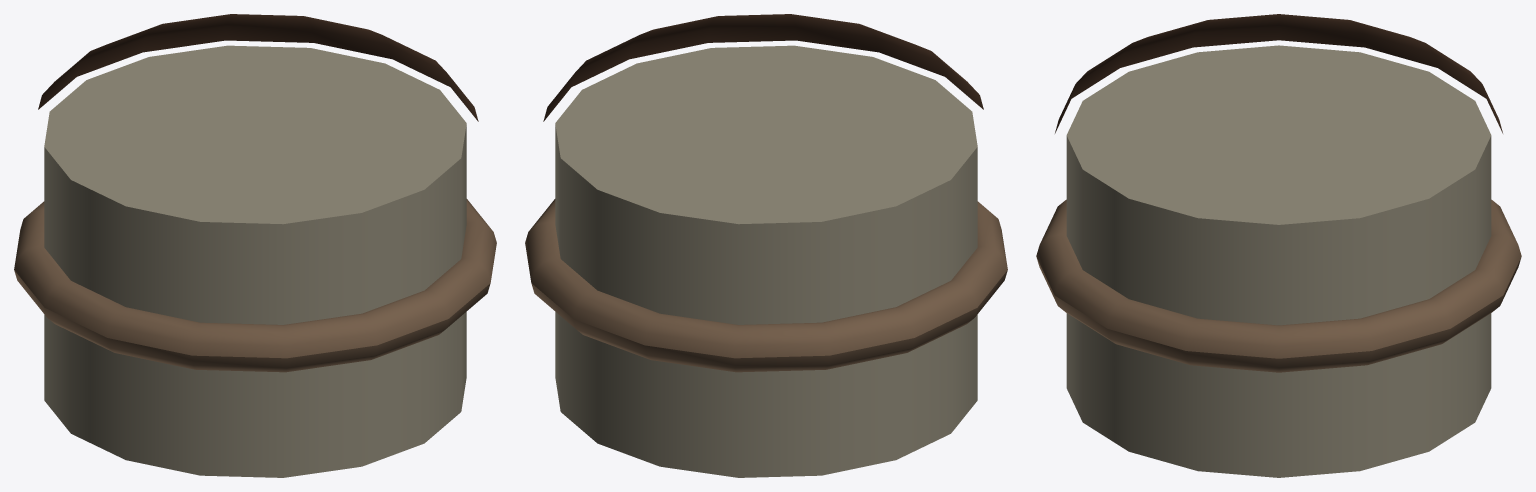
The model's file is kimchi.obj.
3 views of the same model, side by side, from view 1: azimuth 30°, elevation 25°; view 2: azimuth 150°, elevation 25°; view 3: azimuth 270°, elevation 25° (orthographic).
Visible parts, largest first — view 1: kimchi; view 2: kimchi; view 3: kimchi.
Part boxes in pixels (left/top/right/bottom): kimchi: left=14, top=14, right=496, bottom=477; kimchi: left=525, top=14, right=1007, bottom=477; kimchi: left=1036, top=14, right=1521, bottom=477.
Size of the model in its own units: 1.6 by 1.14 by 1.6.
